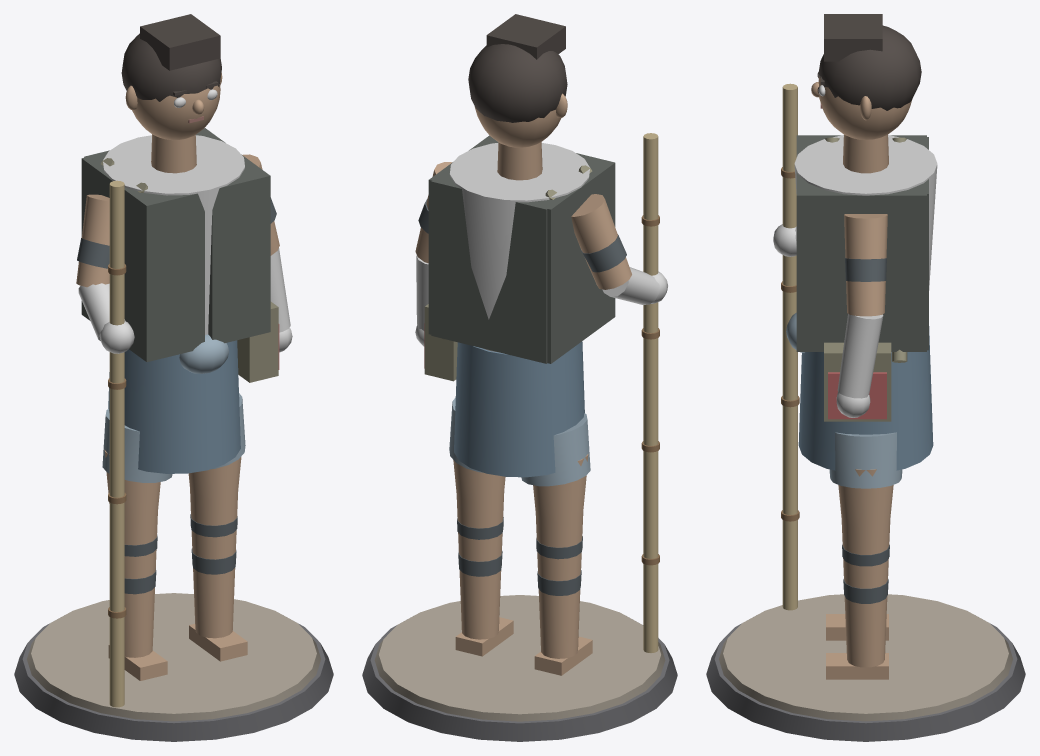
File: 3_adult_fighter_character.glb
The picture shows the model from 3 angles, left to right: view 1: azimuth 30°, elevation 25°; view 2: azimuth 150°, elevation 25°; view 3: azimuth 270°, elevation 25°; orthographic projection.
Parts seen in each view (by area): view 1: Character; view 2: Character; view 3: Character.
Part boxes in pixels (<box>): Character: <box>14,14,333,741</box>; Character: <box>362,14,677,741</box>; Character: <box>706,14,1025,741</box>.
Bounding box in the file's own units: 0.76 × 1.7 × 0.76.
